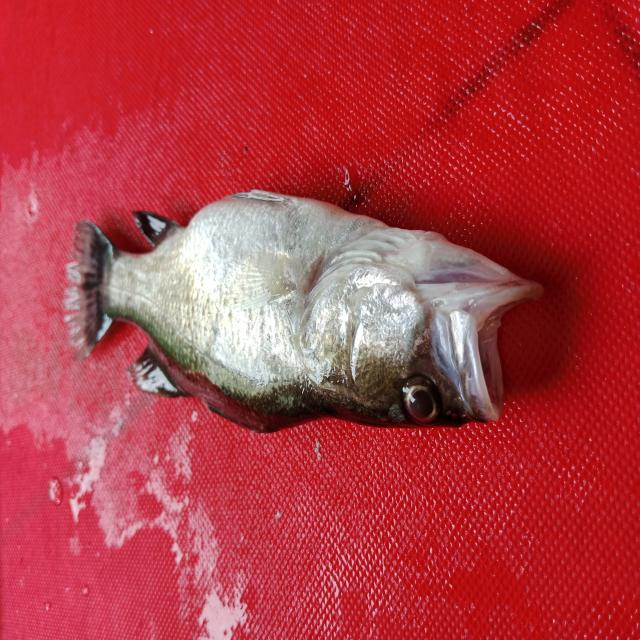ikan: (52, 168, 550, 455)
